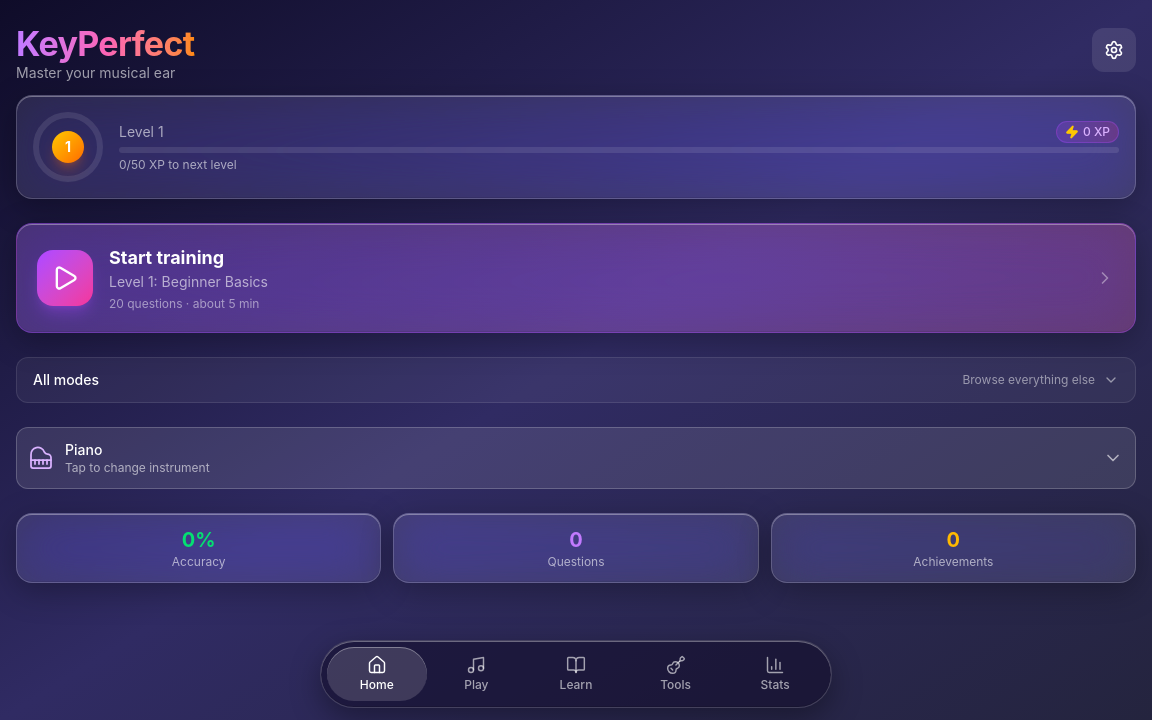
reaching Settings from Home › opens Settings from the Home header
This screenshot has width=1152, height=720.
Expected: the heading "Settings" is not shown
Click the button named "Settings" at (1114, 50), box [1092,28,1136,72]
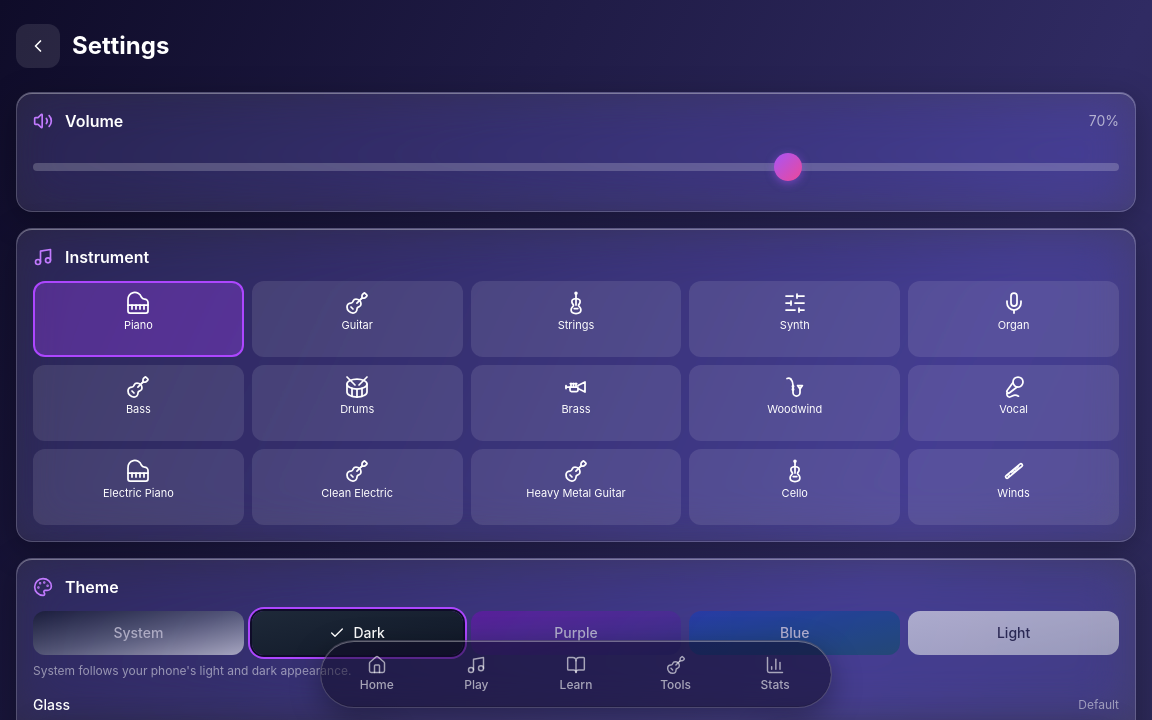
Result: the heading "Settings" is shown at [72,30,169,62]
